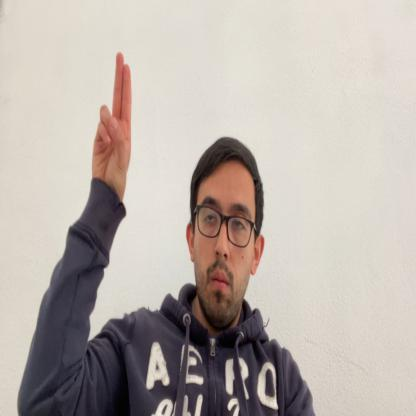U: (92, 51, 131, 203)
